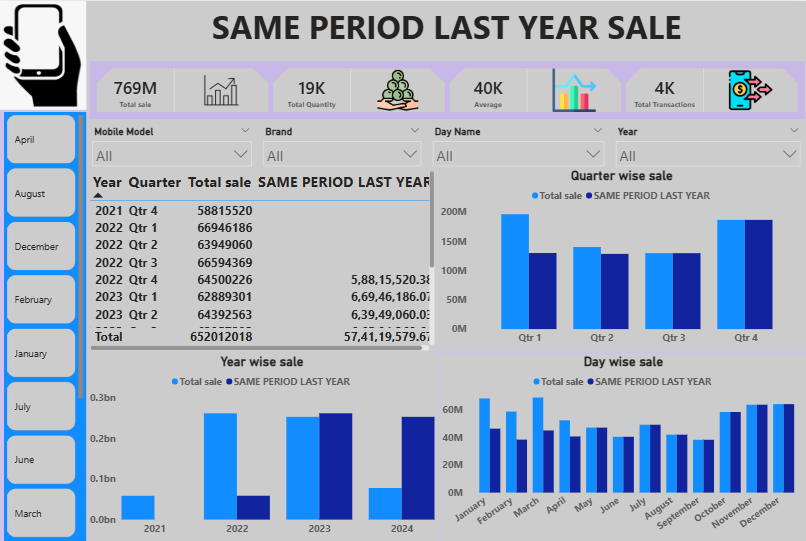

What the dashboard file says about the page in this screenshot:
{"tool":"powerbi","page":{"name":"SAME PERIOD LAST YEAR","canvas":[1350,800],"ordinal":2},"visuals":[{"type":"advancedSlicerVisual","fields":{"Values":["Custom_calender.Month Name"]},"box":[10,183.4,137.5,611.9],"z":0},{"type":"cardVisual","fields":{"Data":["sales data.Total sale","sales data.Total Quantity","sales data.Average","sales data.Total Transactions"]},"box":[147.5,0,1201.9,107.6],"z":1000},{"type":"slicer","fields":{"Values":["sales data.Mobile Model"]},"box":[148.3,108.3,283.3,75],"z":2000},{"type":"slicer","fields":{"Values":["sales data.Brand"]},"box":[431.7,108.3,283.3,75],"z":3000},{"type":"slicer","fields":{"Values":["Custom_calender.Day Name"]},"box":[715.5,107.6,304.9,75.7],"z":4000},{"type":"slicer","fields":{"Values":["Custom_calender.Year"]},"box":[1019.8,106,328.7,76],"z":5000},{"type":"tableEx","fields":{"Values":["Custom_calender.Dates.Variation.Date Hierarchy.Year","Custom_calender.Dates.Variation.Date Hierarchy.Quarter","sales data.Total sale","sales data.SAME PERIOD LAST YEAR"]},"box":[146.7,183.8,586.8,311.1],"z":6000},{"type":"actionButton","box":[0,0,100,40],"z":7000},{"type":"lineClusteredColumnComboChart","title":"Quarter wise sale","fields":{"Category":["Custom_calender.Dates.Variation.Date Hierarchy.Year","Custom_calender.Dates.Variation.Date Hierarchy.Quarter"],"Y":["sales data.Total sale","sales data.SAME PERIOD LAST YEAR"]},"box":[733.4,182,615,305.8],"z":8000},{"type":"lineClusteredColumnComboChart","title":"Day wise sale ","fields":{"Y":["sales data.Total sale","sales data.SAME PERIOD LAST YEAR"],"Category":["Custom_calender.Dates.Variation.Date Hierarchy.Month"]},"box":[733.4,487.8,615,311.1],"z":9000},{"type":"lineClusteredColumnComboChart","title":"Year wise sale ","fields":{"Category":["Custom_calender.Dates.Variation.Date Hierarchy.Year","Custom_calender.Dates.Variation.Date Hierarchy.Quarter"],"Y":["sales data.Total sale","sales data.SAME PERIOD LAST YEAR"]},"box":[148.5,487.8,585,311.1],"z":10000},{"type":"image","box":[0,0,147.5,181.4],"z":11000}]}

Visuals, with their boxes on the page's 1350x800 design canvas (x1, y1, x2, y2). These are canvas units, not pixel positions in the 806x541 screenshot, which may show the page scaled, cropped or inside an application window:
advancedSlicerVisual - Custom_calender.Month Name: left=10, top=183, right=148, bottom=795
cardVisual - sales data.Total sale x sales data.Total Quantity: left=148, top=0, right=1349, bottom=108
slicer - sales data.Mobile Model: left=148, top=108, right=432, bottom=183
slicer - sales data.Brand: left=432, top=108, right=715, bottom=183
slicer - Custom_calender.Day Name: left=716, top=108, right=1020, bottom=183
slicer - Custom_calender.Year: left=1020, top=106, right=1348, bottom=182
tableEx - Custom_calender.Dates.Variation.Date Hierarchy.Year x Custom_calender.Dates.Variation.Date Hierarchy.Quarter: left=147, top=184, right=734, bottom=495
actionButton: left=0, top=0, right=100, bottom=40
"Quarter wise sale" lineClusteredColumnComboChart: left=733, top=182, right=1348, bottom=488
"Day wise sale " lineClusteredColumnComboChart: left=733, top=488, right=1348, bottom=799
"Year wise sale " lineClusteredColumnComboChart: left=148, top=488, right=734, bottom=799
image: left=0, top=0, right=148, bottom=181
